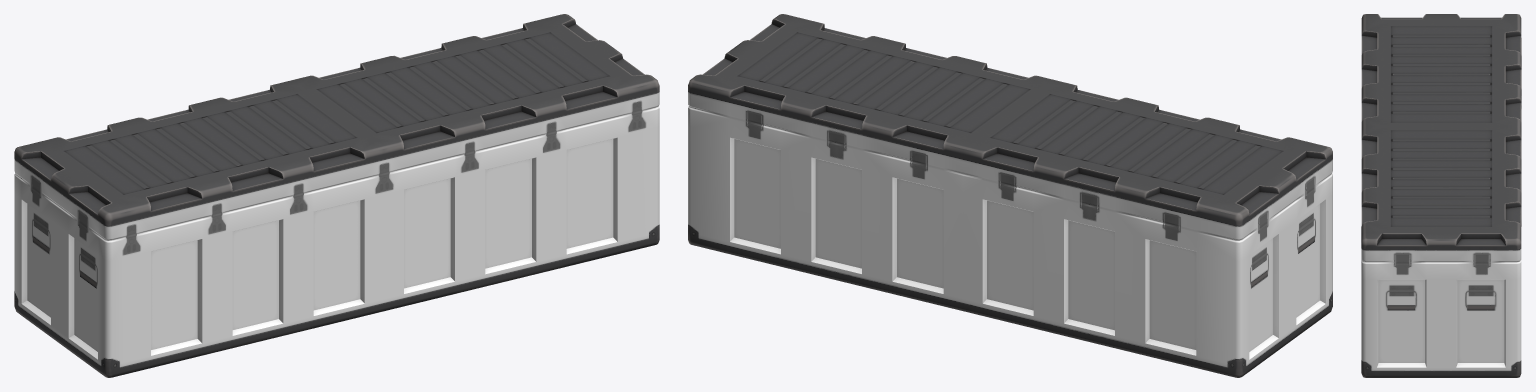
File: WeaponStorageCase01_2.FBX
3 renders of one model, left to right at view 1: azimuth 30°, elevation 25°; view 2: azimuth 150°, elevation 25°; view 3: azimuth 270°, elevation 25°, orthographic. The views are drawn at different scales.
Visible parts, largest first — view 1: WeaponStorageCase01_2; view 2: WeaponStorageCase01_2; view 3: WeaponStorageCase01_2.
Boxes of the visible parts, x1,y1,x2,y2 form: WeaponStorageCase01_2: (14,14,659,377); WeaponStorageCase01_2: (688,14,1332,377); WeaponStorageCase01_2: (1361,14,1521,377).
Size of what is drawn, in the model's own units: 1.73 by 0.4909 by 0.5124.
